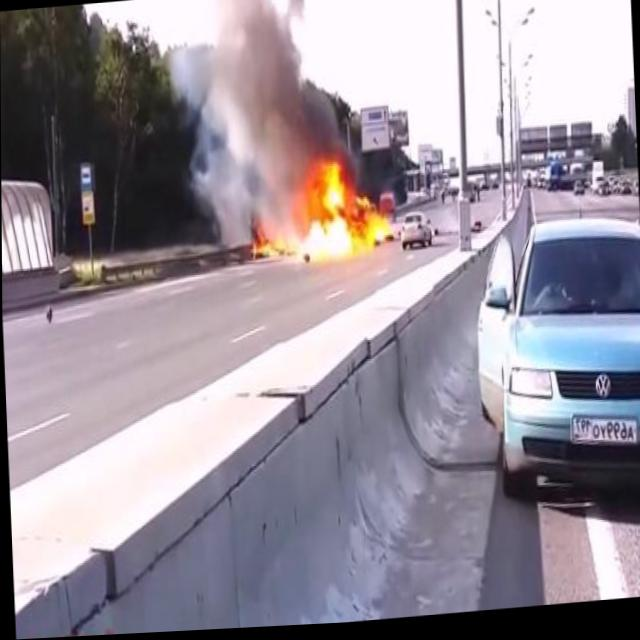fire: (238, 149, 394, 276)
